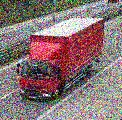truck: (20, 18, 104, 101)
